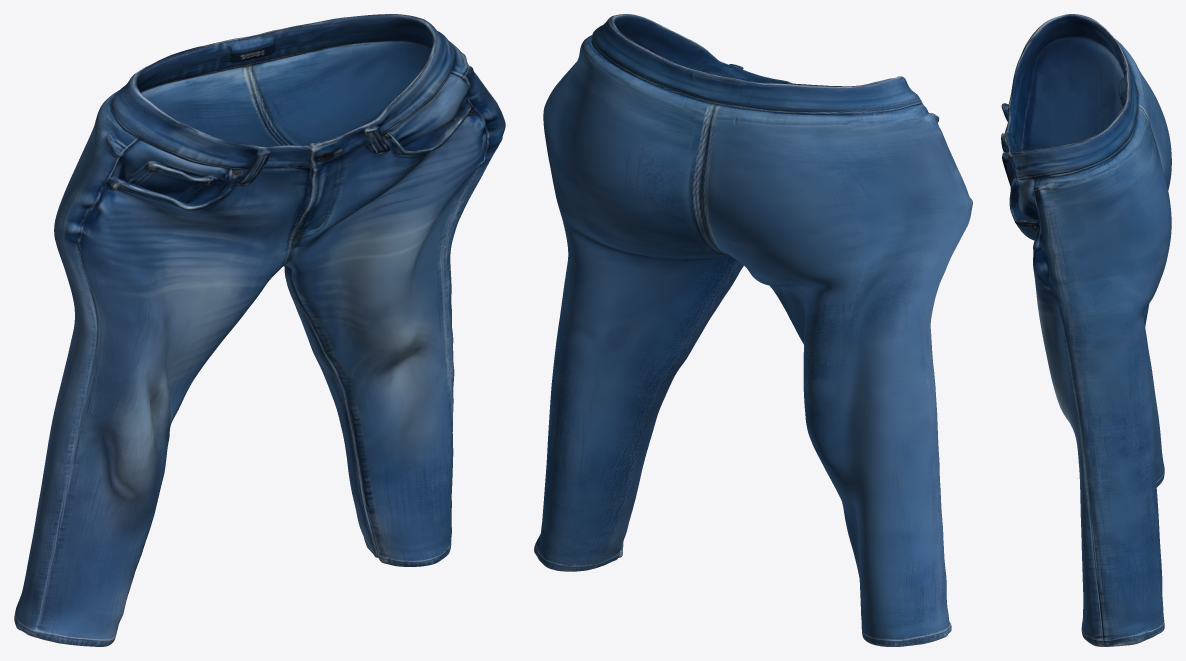
File: autumn_boy_bottom_01.glb
3 renders of one model, left to right at view 1: azimuth 30°, elevation 25°; view 2: azimuth 150°, elevation 25°; view 3: azimuth 270°, elevation 25°, orthographic. The views are drawn at different scales.
Parts seen in each view (by area): view 1: tripo_node_d1dcd986-9b72-4fa8-a779-a2a69a8ad4f8; view 2: tripo_node_d1dcd986-9b72-4fa8-a779-a2a69a8ad4f8; view 3: tripo_node_d1dcd986-9b72-4fa8-a779-a2a69a8ad4f8.
Part boxes in pixels (x1,y1,x2,y2): tripo_node_d1dcd986-9b72-4fa8-a779-a2a69a8ad4f8: [14, 14, 505, 646]; tripo_node_d1dcd986-9b72-4fa8-a779-a2a69a8ad4f8: [534, 14, 972, 646]; tripo_node_d1dcd986-9b72-4fa8-a779-a2a69a8ad4f8: [1001, 14, 1171, 646].
Bounding box in the file's own units: 0.8449 × 1 × 0.3128.
Materials: 1 (1 with a texture image).
